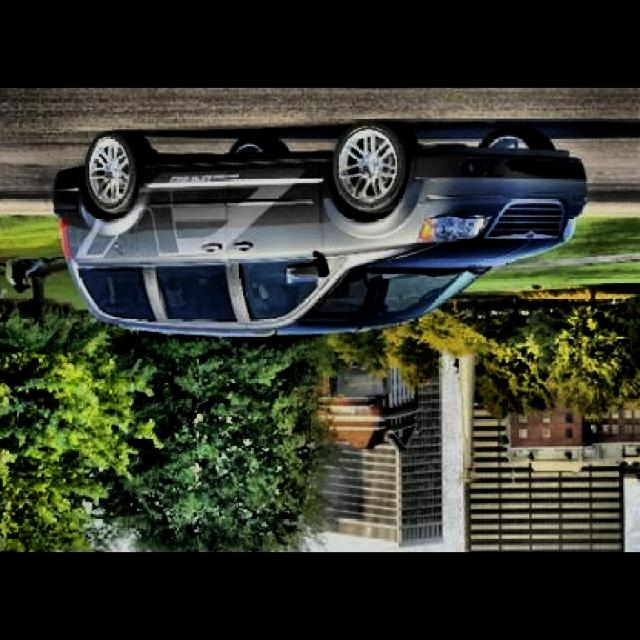black: (0, 107, 585, 376)
